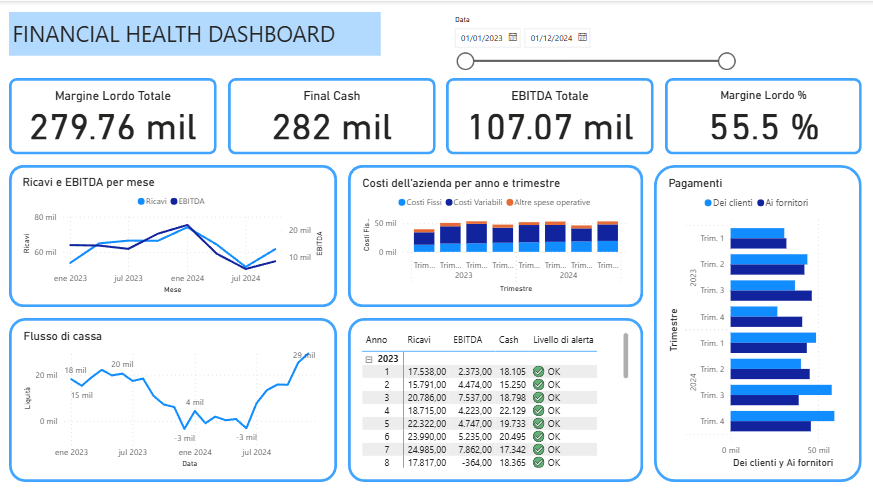

The page's visual inventory and layout, read from the dashboard file:
{"tool":"powerbi","page":{"name":"Página 1","canvas":[1280,720],"ordinal":0},"visuals":[{"type":"shape","box":[656,112,304,112],"z":0},{"type":"shape","box":[16,240,480,208],"z":0,"group":"g1"},{"type":"shape","box":[976,112,288,112],"z":1000},{"type":"shape","box":[336,112,304,112],"z":2000},{"type":"shape","box":[16,112,304,112],"z":3000},{"type":"shape","box":[512,240,432,208],"z":3000,"group":"g2"},{"type":"shape","box":[960,240,304,464],"z":4000},{"type":"shape","box":[512,464,432,240],"z":5000},{"type":"shape","box":[16,464,480,240],"z":6000},{"type":"lineChart","title":"Ricavi e EBITDA per mese","fields":{"Category":["tbl_finanza.Data.Variación.Jerarquía de fechas.Año","tbl_finanza.Data.Variación.Jerarquía de fechas.Trimestre"],"Y":["Sum(tbl_finanza.Ricavi)"],"Y2":["Sum(tbl_finanza.EBITDA)"]},"box":[31,254.9,450,178.3],"z":7000,"group":"g1"},{"type":"card","title":"Margine Lordo %","fields":{"Values":["tbl_finanza.Margine_Lordo_Total_%"]},"box":[992,128,256,80],"z":8000},{"type":"card","title":"EBITDA Totale","fields":{"Values":["tbl_finanza.EBITDA_Total"]},"box":[672,128,272,80],"z":9000},{"type":"card","title":"Final Cash","fields":{"Values":["Sum(tbl_finanza.Cash_Final)"]},"box":[352,128,272,80],"z":10000},{"type":"columnChart","title":"Costi dell''azienda per anno e trimestre","fields":{"Y":["Sum(tbl_finanza.Costi_fissi)","Sum(tbl_finanza.Costi_Variabili)","Sum(tbl_finanza.Altre_spese_operative)"],"Category":["tbl_finanza.Data.Variación.Jerarquía de fechas.Año","tbl_finanza.Data.Variación.Jerarquía de fechas.Trimestre"]},"box":[528,256,400,176],"z":10000,"group":"g2"},{"type":"card","title":"Margine Lordo Totale","fields":{"Values":["tbl_finanza.Margine_Lordo_Total"]},"box":[32,128,272,80],"z":11000},{"type":"lineChart","title":"Flusso di cassa","fields":{"Y":["Sum(tbl_finanza.Cash_Final)"],"Category":["tbl_finanza.Data.Variación.Jerarquía de fechas.Año","tbl_finanza.Data.Variación.Jerarquía de fechas.Mes"]},"box":[32,480,448,208],"z":13000},{"type":"pivotTable","fields":{"Values":["Sum(tbl_finanza.Ricavi)","Sum(tbl_finanza.EBITDA)","Sum(tbl_finanza.Cash_Final)","Min(tbl_finanza.Livello di alerta)"],"Rows":["tbl_finanza.Anno","tbl_finanza.Mese"]},"box":[528,480,400,208],"z":14000},{"type":"clusteredBarChart","title":"Pagamenti","fields":{"Y":["Sum(tbl_finanza.Pagamenti_dei_clienti_(cash-in))","Sum(tbl_finanza.Pagamenti_ai_fornitori_(cash-out))"],"Category":["tbl_finanza.Data.Variación.Jerarquía de fechas.Año","tbl_finanza.Data.Variación.Jerarquía de fechas.Trimestre"]},"box":[976,256,272,432],"z":16000},{"type":"group","id":"g1","title":"Grupo 1","box":[16,240,480,208],"z":17000},{"type":"group","id":"g2","title":"Grupo 2","box":[512,240,432,208],"z":18000},{"type":"textbox","box":[16,16,544,64],"z":18001},{"type":"slicer","fields":{"Values":["tbl_finanza.Data"]},"box":[656,16,432,96],"z":18002}]}

Visuals, with their boxes in screenshot pixels (x1, y1, x2, y2), scaled from the page's 1280x720 canvas onto the 873x489 screenshot:
shape: {"x1": 447, "y1": 76, "x2": 655, "y2": 152}
shape: {"x1": 11, "y1": 163, "x2": 338, "y2": 304}
shape: {"x1": 666, "y1": 76, "x2": 862, "y2": 152}
shape: {"x1": 229, "y1": 76, "x2": 436, "y2": 152}
shape: {"x1": 11, "y1": 76, "x2": 218, "y2": 152}
shape: {"x1": 349, "y1": 163, "x2": 644, "y2": 304}
shape: {"x1": 655, "y1": 163, "x2": 862, "y2": 478}
shape: {"x1": 349, "y1": 315, "x2": 644, "y2": 478}
shape: {"x1": 11, "y1": 315, "x2": 338, "y2": 478}
"Ricavi e EBITDA per mese" lineChart: {"x1": 21, "y1": 173, "x2": 328, "y2": 294}
"Margine Lordo %" card: {"x1": 677, "y1": 87, "x2": 851, "y2": 141}
"EBITDA Totale" card: {"x1": 458, "y1": 87, "x2": 644, "y2": 141}
"Final Cash" card: {"x1": 240, "y1": 87, "x2": 426, "y2": 141}
"Costi dell''azienda per anno e trimestre" columnChart: {"x1": 360, "y1": 174, "x2": 633, "y2": 293}
"Margine Lordo Totale" card: {"x1": 22, "y1": 87, "x2": 207, "y2": 141}
"Flusso di cassa" lineChart: {"x1": 22, "y1": 326, "x2": 327, "y2": 467}
pivotTable - Sum(tbl_finanza.Ricavi) x Sum(tbl_finanza.EBITDA): {"x1": 360, "y1": 326, "x2": 633, "y2": 467}
"Pagamenti" clusteredBarChart: {"x1": 666, "y1": 174, "x2": 851, "y2": 467}
"Grupo 1" group: {"x1": 11, "y1": 163, "x2": 338, "y2": 304}
"Grupo 2" group: {"x1": 349, "y1": 163, "x2": 644, "y2": 304}
textbox: {"x1": 11, "y1": 11, "x2": 382, "y2": 54}
slicer - tbl_finanza.Data: {"x1": 447, "y1": 11, "x2": 742, "y2": 76}
